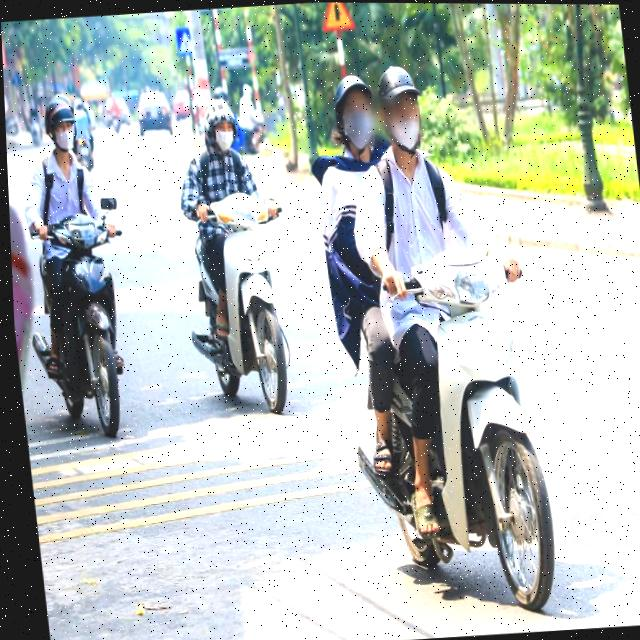motorcycle: (333, 239, 578, 622), (12, 192, 152, 443), (172, 187, 306, 420)
